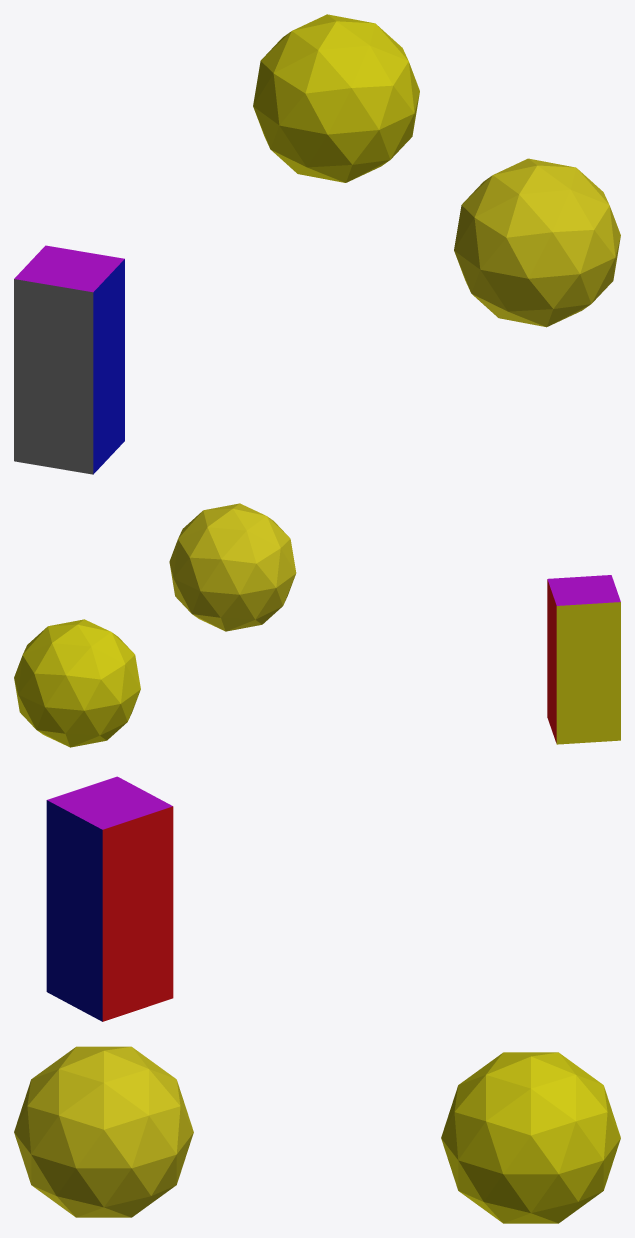
The model's file is column.obj.
3 views of the same model, one above another, from view 1: azimuth 30°, elevation 25°; view 2: azimuth 150°, elevation 25°; view 3: azimuth 270°, elevation 25° (orthographic). The views are drawn at different scales.
Visible parts, largest first — view 1: Cube, Icosphere, Icosphere.001; view 2: Icosphere, Icosphere.001, Cube; view 3: Cube, Icosphere, Icosphere.001.
Boxes of the visible parts, x1,y1,x2,y2 form: Cube: (14, 245, 124, 474); Icosphere: (253, 14, 419, 182); Icosphere.001: (454, 158, 620, 327); Icosphere: (14, 619, 140, 747); Icosphere.001: (169, 503, 296, 631); Cube: (547, 575, 620, 744); Cube: (46, 776, 173, 1021); Icosphere: (441, 1052, 620, 1223); Icosphere.001: (14, 1046, 193, 1217).
Size of the model in its own units: 15.93 by 4.71 by 13.49.
